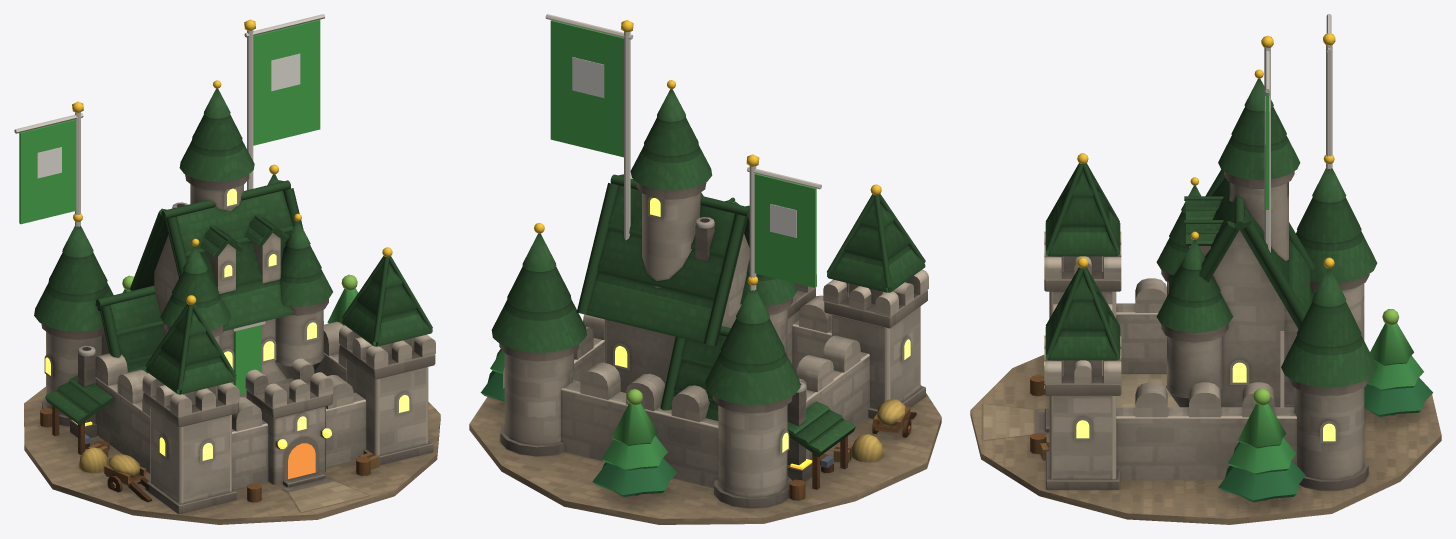
Rendered from residence_dl4_green.glb.
3 views of the same model, side by side, from view 1: azimuth 30°, elevation 25°; view 2: azimuth 150°, elevation 25°; view 3: azimuth 270°, elevation 25° (orthographic). The views are drawn at different scales.
Visible parts, largest first — view 1: residence_dl4_green; view 2: residence_dl4_green; view 3: residence_dl4_green.
Boxes of the visible parts, <box> form: residence_dl4_green: <box>14,14,440,524</box>; residence_dl4_green: <box>469,14,941,524</box>; residence_dl4_green: <box>970,14,1441,524</box>.
Bounding box in the file's own units: 1.67 × 1.68 × 1.68.
5 materials, 1 textured.
